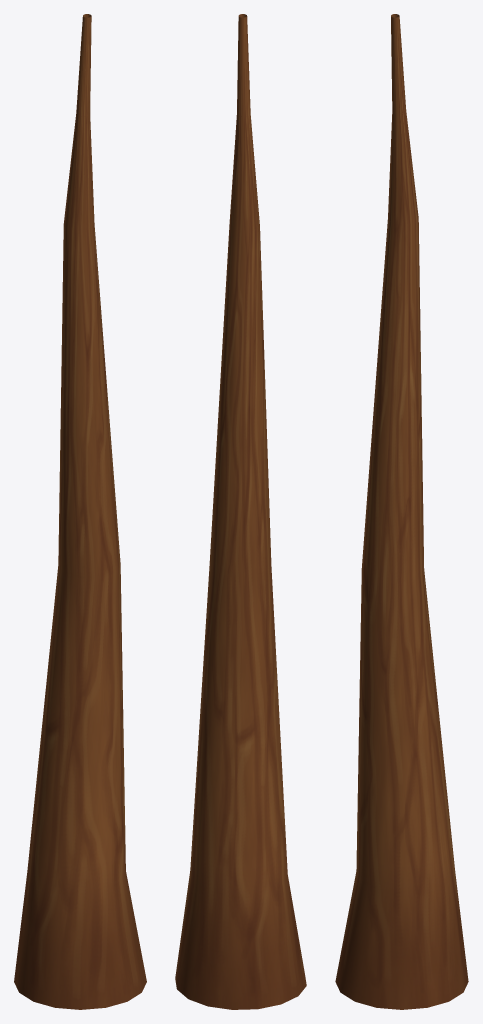
File: Pine - Wood #3.fbx
3 views of the same model, side by side, from view 1: azimuth 90°, elevation 25°; view 2: azimuth 150°, elevation 25°; view 3: azimuth 270°, elevation 25° (orthographic).
Visible parts, largest first — view 1: Pine - Wood #3; view 2: Pine - Wood #3; view 3: Pine - Wood #3.
Part boxes in pixels (x1,y1,x2,y2): Pine - Wood #3: (14,14,146,1009); Pine - Wood #3: (175,14,306,1009); Pine - Wood #3: (335,14,468,1009).
Size of the model in its own units: 63.88 by 512 by 63.88.
1 material, 1 textured.
